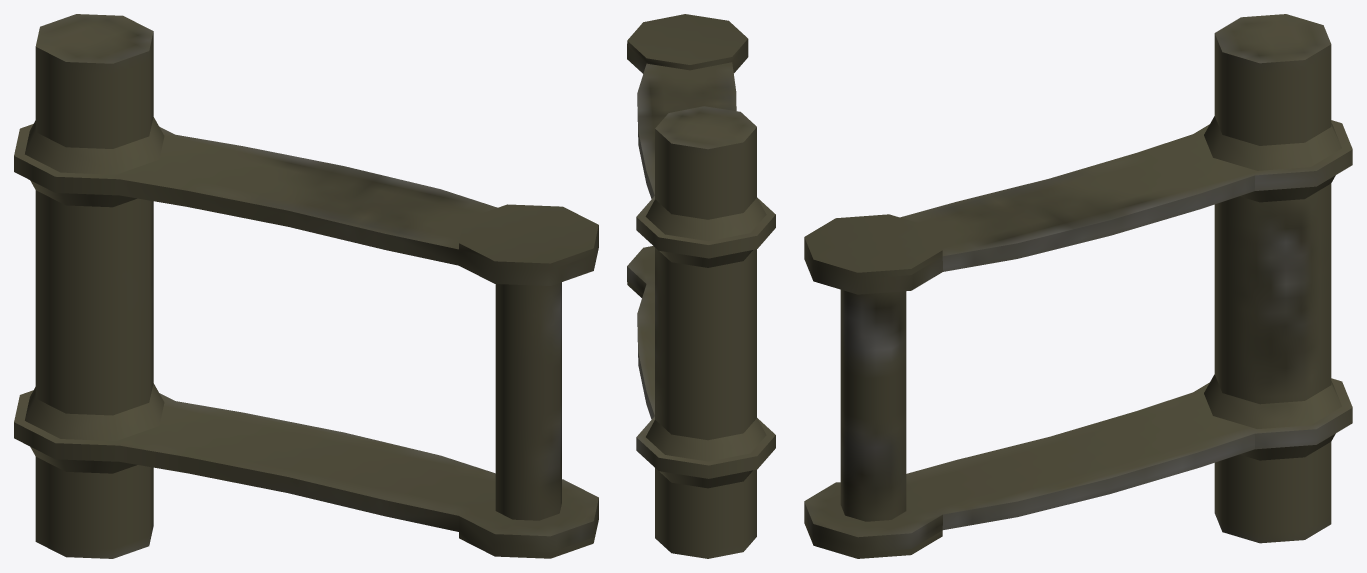
The model's file is bucket_hlink.obj.
The picture shows the model from 3 angles, left to right: view 1: azimuth 30°, elevation 25°; view 2: azimuth 150°, elevation 25°; view 3: azimuth 270°, elevation 25°; orthographic projection. The views are drawn at different scales.
Visible parts, largest first — view 1: Shovel_mechanism.003; view 2: Shovel_mechanism.003; view 3: Shovel_mechanism.003.
Boxes of the visible parts, x1=… form: Shovel_mechanism.003: x1=14, y1=14, x2=598, y2=558; Shovel_mechanism.003: x1=627, y1=14, x2=775, y2=558; Shovel_mechanism.003: x1=804, y1=14, x2=1352, y2=558.
Bounding box in the file's own units: 0.1682 × 0.2202 × 0.2281.
1 material, 1 textured.
